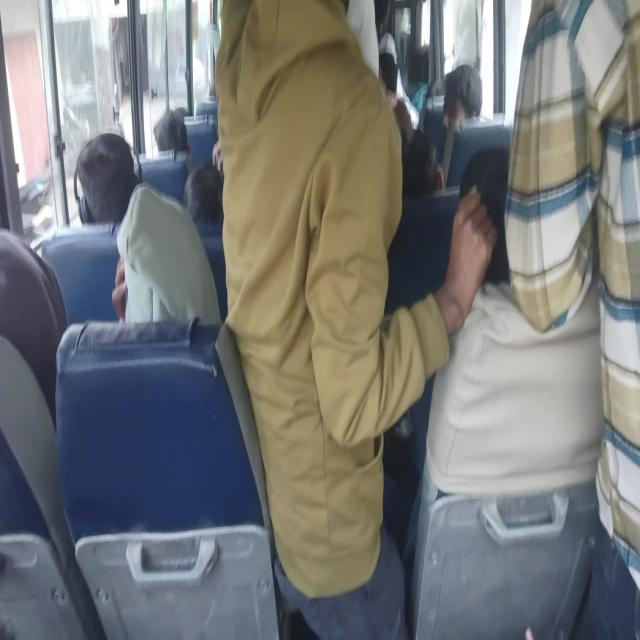person: (226, 26, 383, 540), (520, 4, 640, 537), (113, 197, 238, 389), (65, 124, 124, 232), (466, 153, 523, 258), (0, 234, 39, 378), (150, 104, 188, 173), (403, 116, 441, 176), (191, 159, 223, 223), (439, 68, 471, 124), (418, 43, 445, 68)
